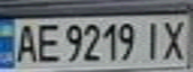1: (100, 20, 121, 62)
2: (81, 20, 103, 63)
9: (115, 19, 142, 62), (60, 20, 84, 63)
A: (9, 20, 42, 65)
E: (33, 20, 63, 64)
I: (139, 18, 166, 62)
X: (157, 16, 190, 61)
